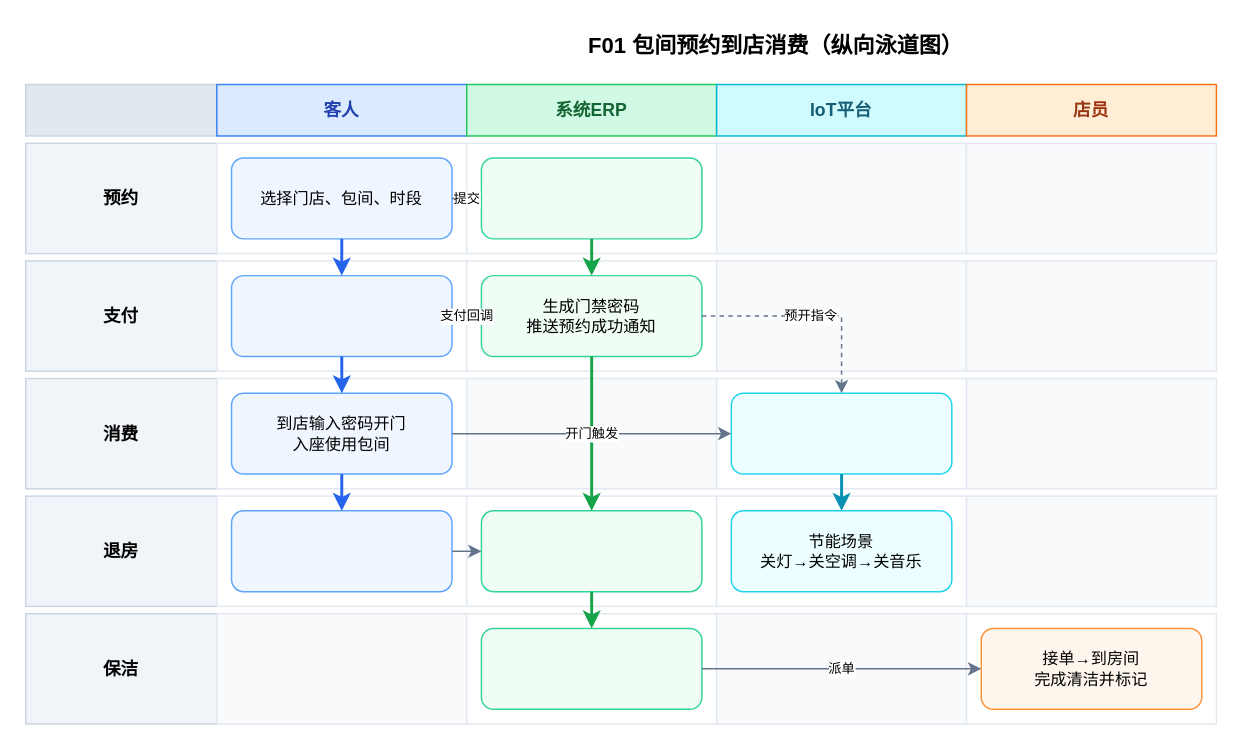
The diagram is 1242 pixels wide and 750 high, and some of its shapes have lost their labels. Each missing label, with the box of its shape:
更新房态 改为「待打扫」: (480, 509, 702, 592)
校验可用性 生成预约单: (480, 157, 702, 239)
欢迎场景 开灯→空调→轻音乐: (730, 392, 952, 474)
确认订单 选择支付方式并支付: (230, 274, 452, 356)
自动生成保洁任务 推送至店员端: (480, 627, 702, 709)
角色 / 阶段: (24, 83, 217, 136)
退房离店: (230, 509, 452, 592)
